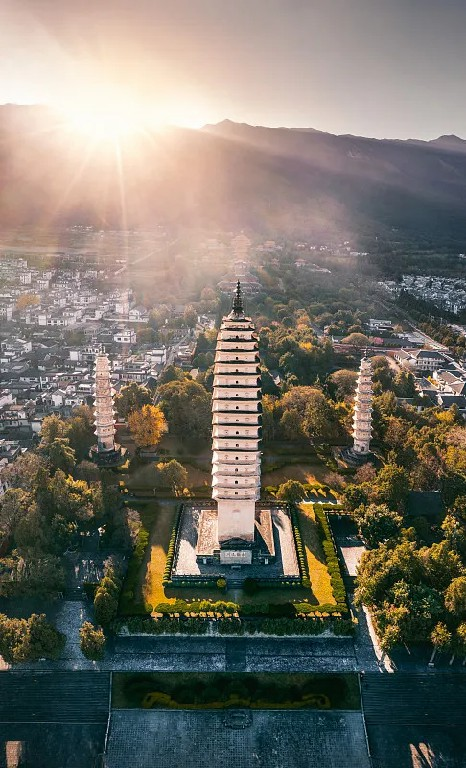ThreePagoda: (211, 278, 263, 542)
